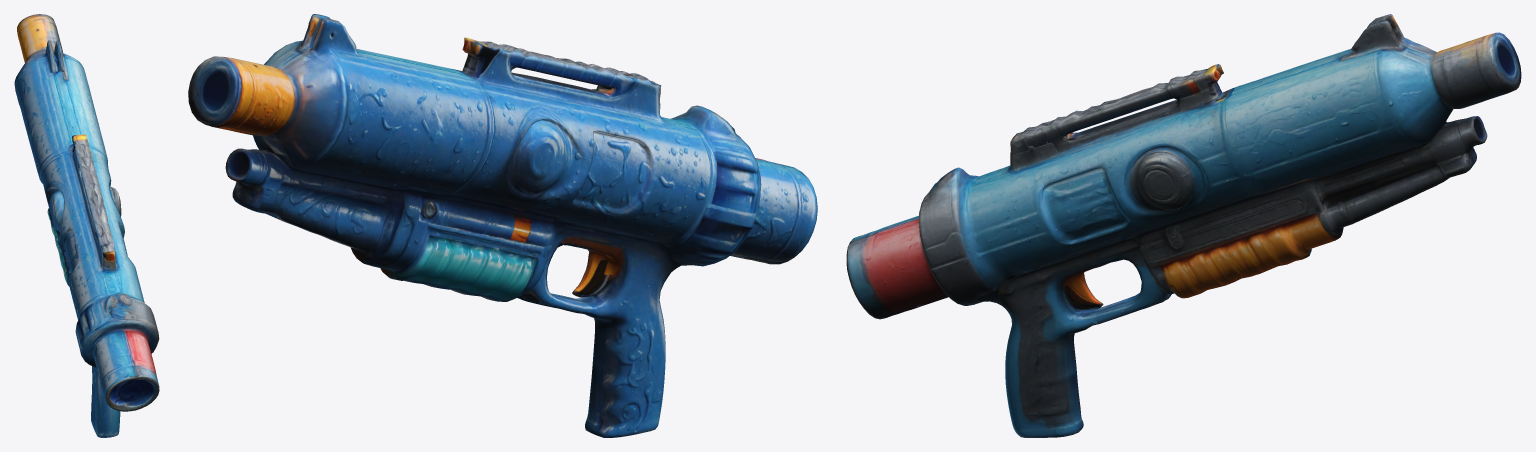
Rendered from WATERGUN1.glb.
3 views of the same model, side by side, from view 1: azimuth 30°, elevation 25°; view 2: azimuth 150°, elevation 25°; view 3: azimuth 270°, elevation 25° (orthographic). The views are drawn at different scales.
Parts seen in each view (by area): view 1: Mesh_0.001; view 2: Mesh_0.001; view 3: Mesh_0.001.
Boxes of the visible parts, left/top/right/bottom form: Mesh_0.001: left=14, top=14, right=159, bottom=437; Mesh_0.001: left=188, top=14, right=817, bottom=437; Mesh_0.001: left=846, top=14, right=1521, bottom=437.
Bounding box in the file's own units: 0.5331 × 1.03 × 1.36.
1 material, 1 textured.
